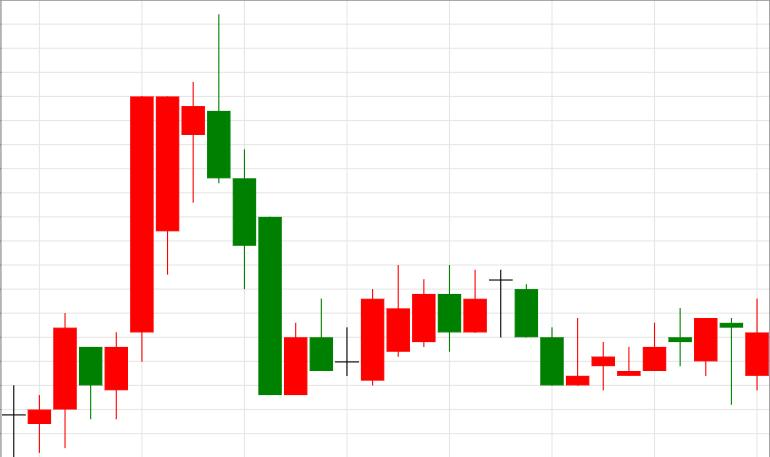evening_star_fall: (361, 266, 538, 387)
